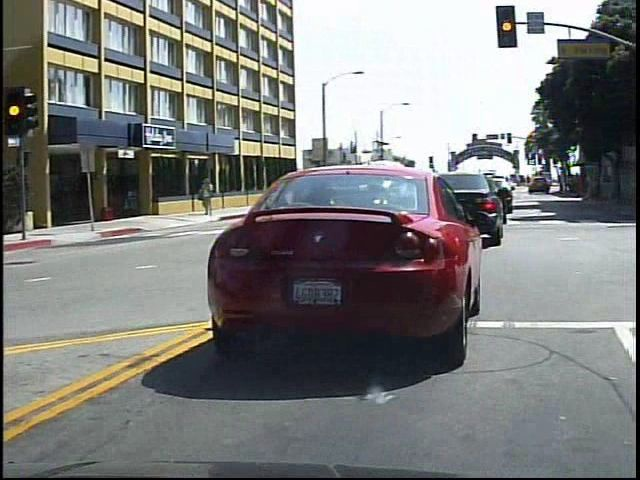person: (201, 174, 219, 218)
